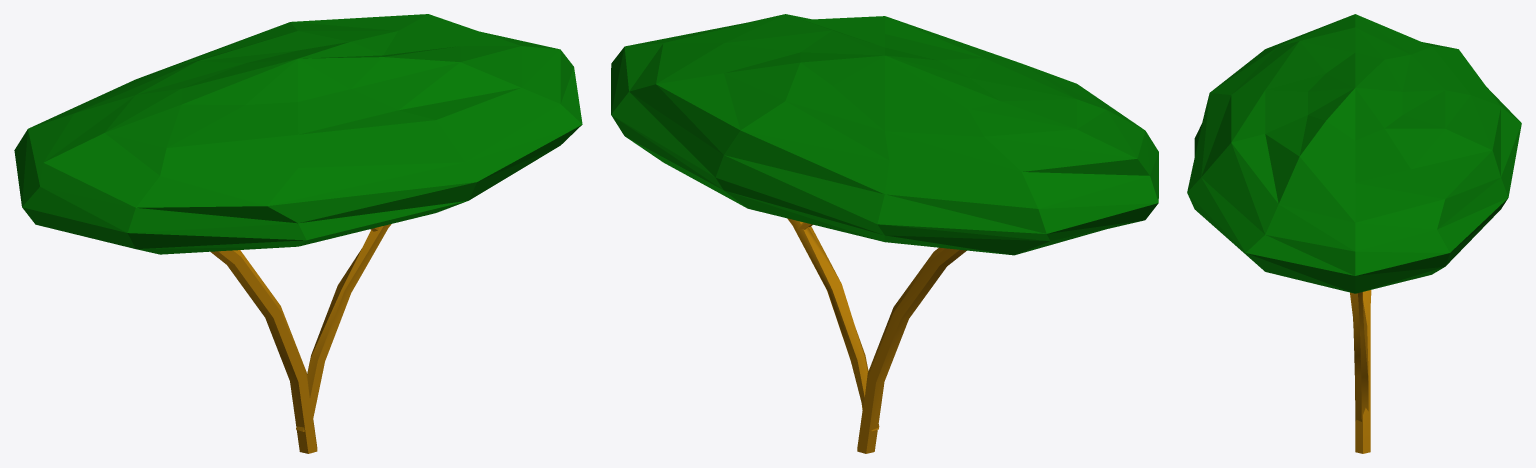
File: Baum1.fbx
The picture shows the model from 3 angles, left to right: view 1: azimuth 30°, elevation 25°; view 2: azimuth 150°, elevation 25°; view 3: azimuth 270°, elevation 25°; orthographic projection. The views are drawn at different scales.
Parts seen in each view (by area): view 1: pSphere1, pCylinder1, pasted__pasted__pCylinder1; view 2: pSphere1, pCylinder1, pasted__pasted__pCylinder1; view 3: pSphere1, pasted__pasted__pCylinder1, pCylinder1.
Boxes of the visible parts, x1=… form: pSphere1: x1=14, y1=14, x2=582, y2=254; pCylinder1: x1=210, y1=250, x2=317, y2=453; pasted__pasted__pCylinder1: x1=296, y1=224, x2=391, y2=431; pSphere1: x1=611, y1=14, x2=1158, y2=255; pCylinder1: x1=857, y1=247, x2=966, y2=453; pasted__pasted__pCylinder1: x1=787, y1=218, x2=879, y2=431; pSphere1: x1=1187, y1=14, x2=1521, y2=293; pasted__pasted__pCylinder1: x1=1350, y1=292, x2=1368, y2=421; pCylinder1: x1=1355, y1=290, x2=1371, y2=453.
Bounding box in the file's own units: 8.59 × 5.92 × 5.04.
